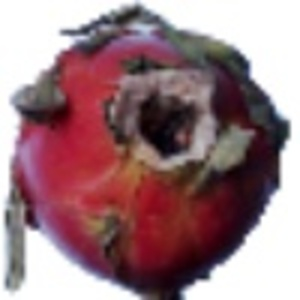pitaia: (2, 1, 292, 300)
